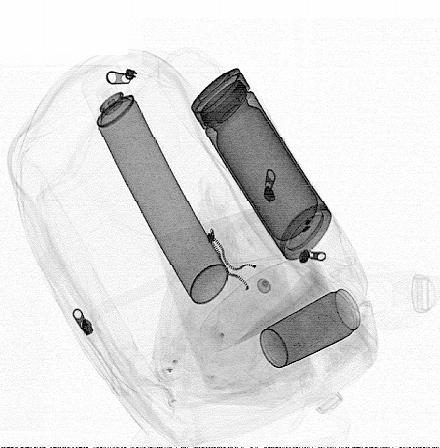Sprayer: (81, 61, 231, 305)
